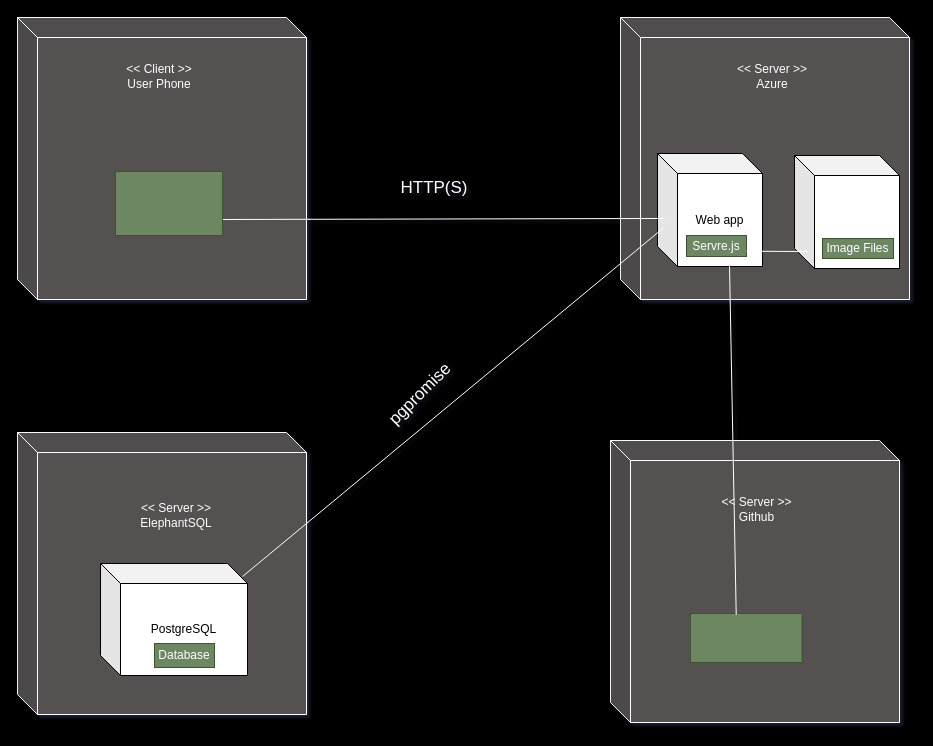
The diagram is 933 pixels wide and 746 high, and some of its shapes have lost their labels. Here are the shapes that lost their labels. From the top down, the box of each, then its label:
(114, 170, 222, 236): App.js
(794, 154, 900, 268): Storage Account
(690, 612, 802, 662): Service Repository
